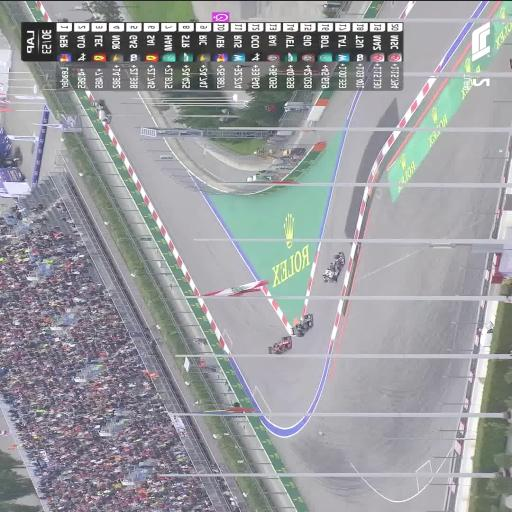f1_car: (322, 251, 345, 282), (291, 313, 312, 335), (92, 98, 111, 122), (268, 335, 291, 353)
